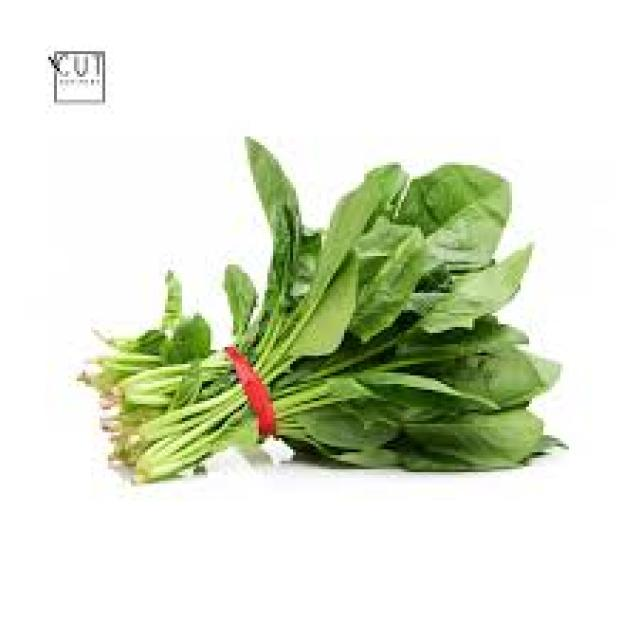spinach: (26, 124, 584, 493)
